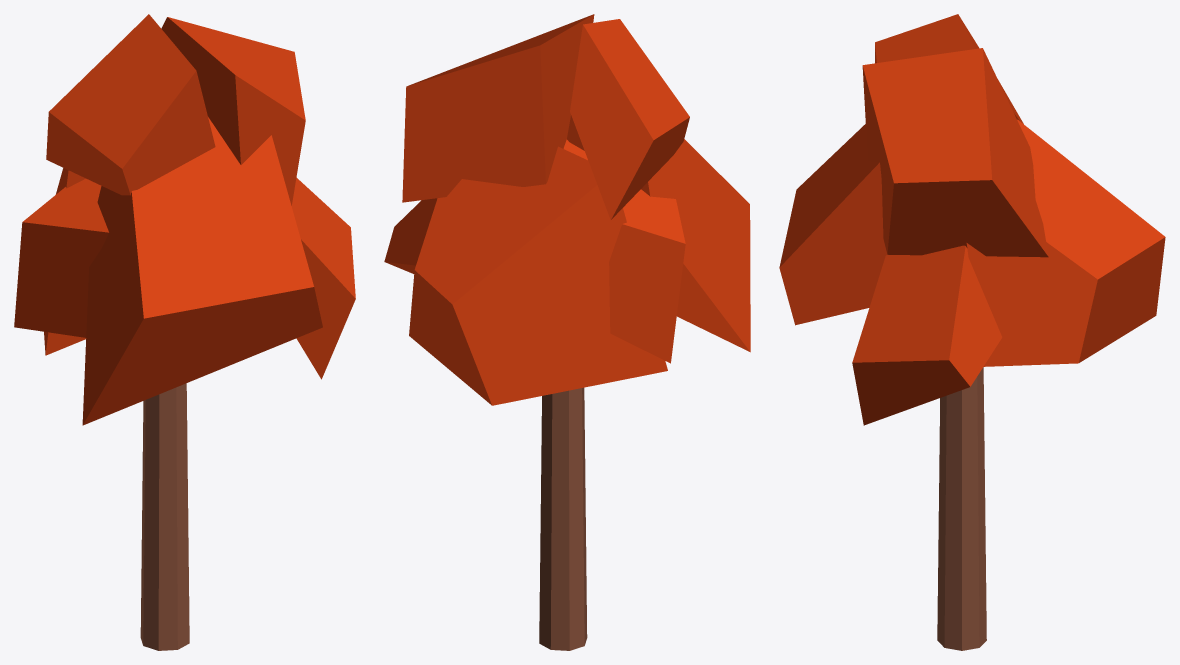
The model's file is Tree_41_summer_red.fbx.
3 renders of one model, left to right at view 1: azimuth 30°, elevation 25°; view 2: azimuth 150°, elevation 25°; view 3: azimuth 270°, elevation 25°, orthographic. The views are drawn at different scales.
Visible parts, largest first — view 1: Tree_41_summer_red; view 2: Tree_41_summer_red; view 3: Tree_41_summer_red.
Part boxes in pixels (box(x1,y1,x2,y2)): Tree_41_summer_red: box(14, 14, 355, 650); Tree_41_summer_red: box(384, 14, 750, 650); Tree_41_summer_red: box(779, 14, 1165, 650).
Bounding box in the file's own units: 120 × 229 × 130.
